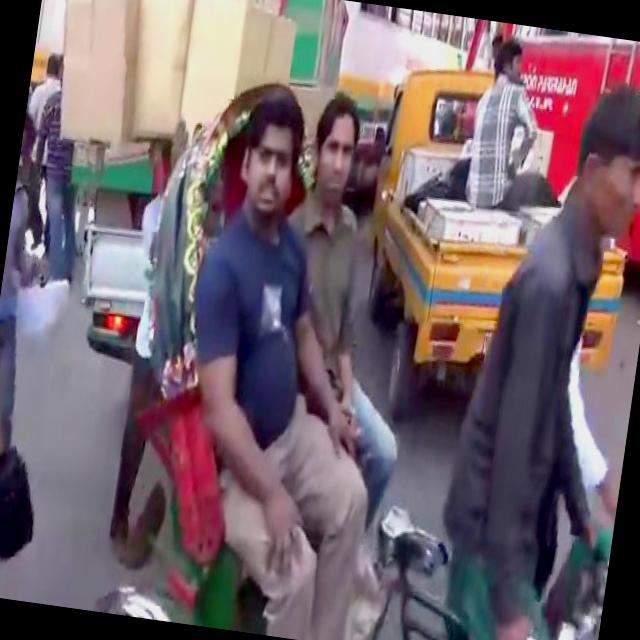bus: (435, 18, 640, 281), (323, 1, 496, 198)
motorcycle: (84, 15, 640, 640)
truck: (340, 25, 640, 445), (63, 185, 166, 370)
